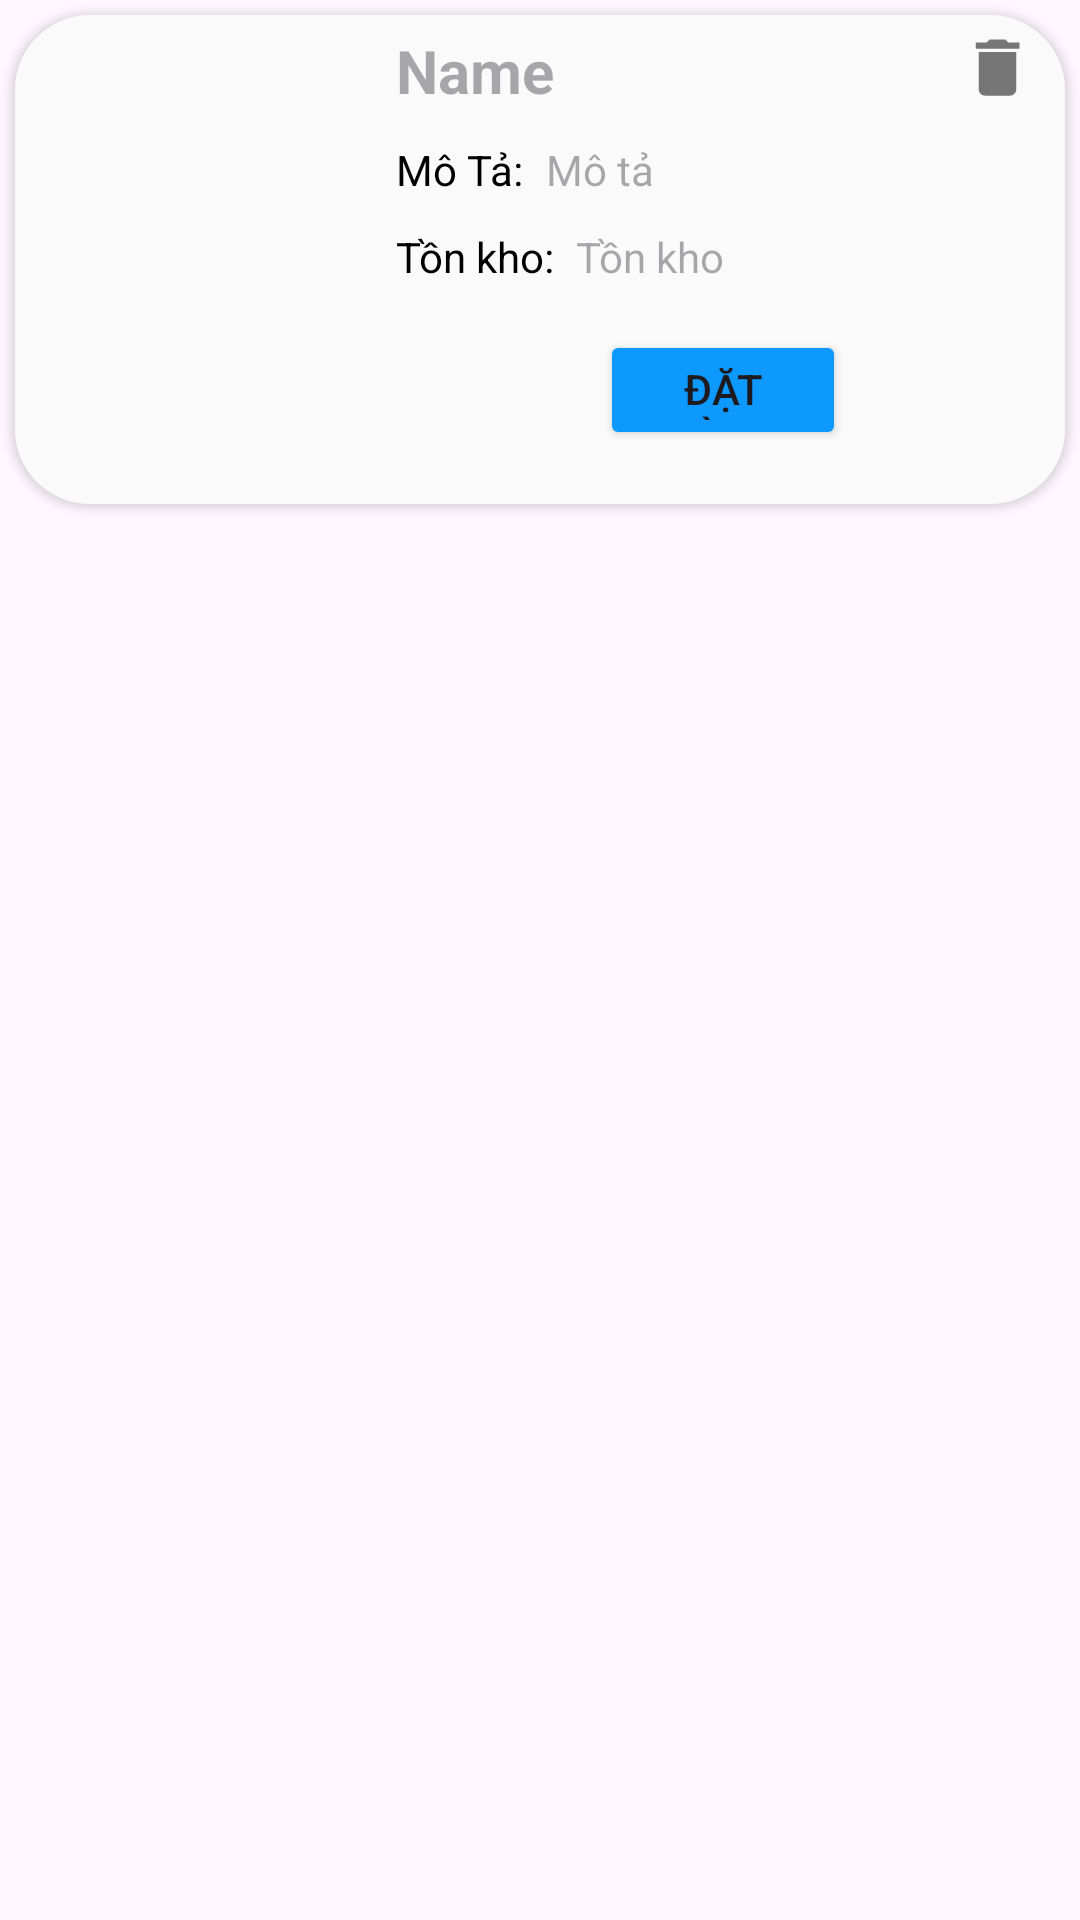

Named icons in this screenshot (1080 × 1920) and their centers, point (x, y):
delete: point (997, 67)
